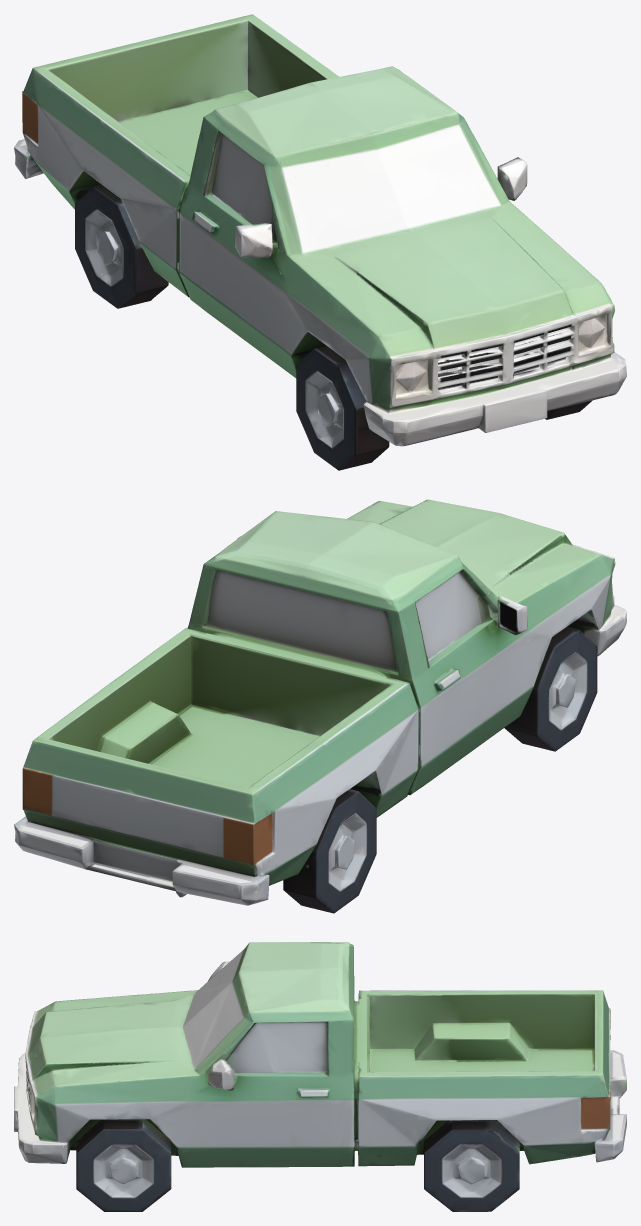
Rendered from car3.fbx.
The picture shows the model from 3 angles, top to bottom: view 1: azimuth 30°, elevation 25°; view 2: azimuth 150°, elevation 25°; view 3: azimuth 270°, elevation 25°; orthographic projection. The views are drawn at different scales.
Parts seen in each view (by area): view 1: node_0; view 2: node_0; view 3: node_0.
Part boxes in pixels (x1,y1,x2,y2): node_0: (14,14,626,470); node_0: (14,499,626,913); node_0: (14,942,626,1211).
Size of the model in its own units: 48.53 by 40.48 by 114.
